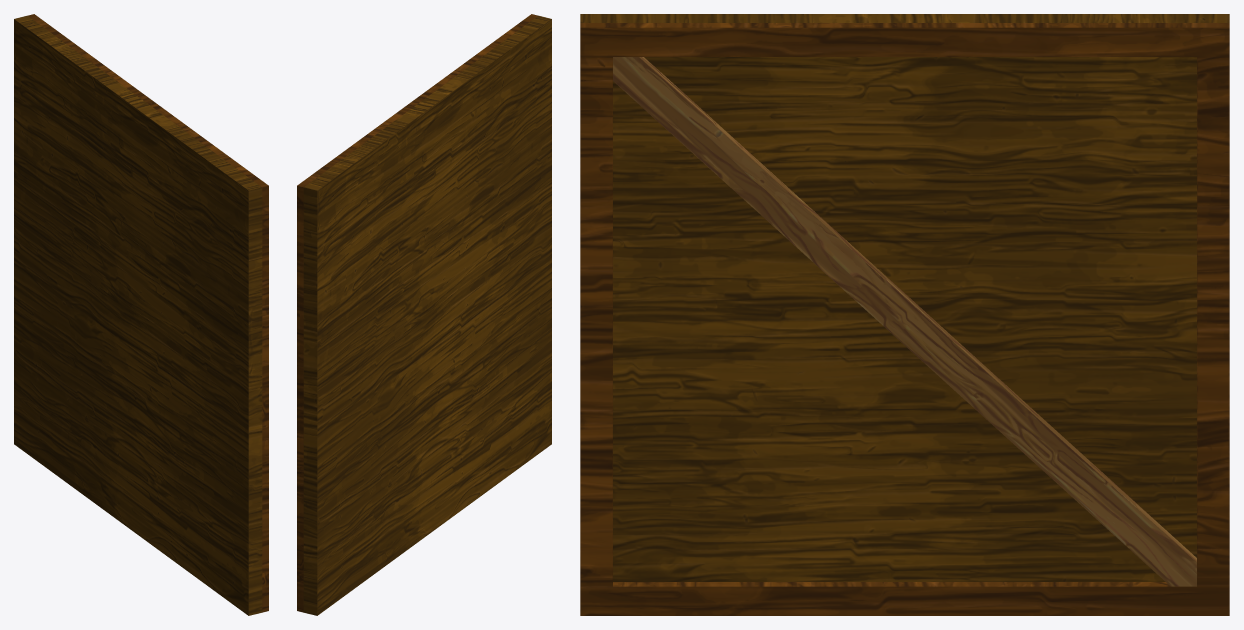
File: C_CrateSides_S02.fbx
The picture shows the model from 3 angles, left to right: view 1: azimuth 30°, elevation 25°; view 2: azimuth 150°, elevation 25°; view 3: azimuth 270°, elevation 25°; orthographic projection. The views are drawn at different scales.
Parts seen in each view (by area): view 1: CrateBack_Small, CrateEdge_Small; view 2: CrateBack_Small, CrateEdge_Small; view 3: CrateBack_Small, CrateEdge_Small, CrateCross_02_Small.
Boxes of the visible parts, <box> form: CrateBack_Small: <box>14,15,262,615</box>; CrateEdge_Small: <box>28,14,268,612</box>; CrateBack_Small: <box>303,15,551,615</box>; CrateEdge_Small: <box>297,14,537,612</box>; CrateBack_Small: <box>580,14,1229,581</box>; CrateEdge_Small: <box>580,23,1229,615</box>; CrateCross_02_Small: <box>613,57,1196,586</box>.
Size of the model in its own units: 0.15 by 3 by 3.
